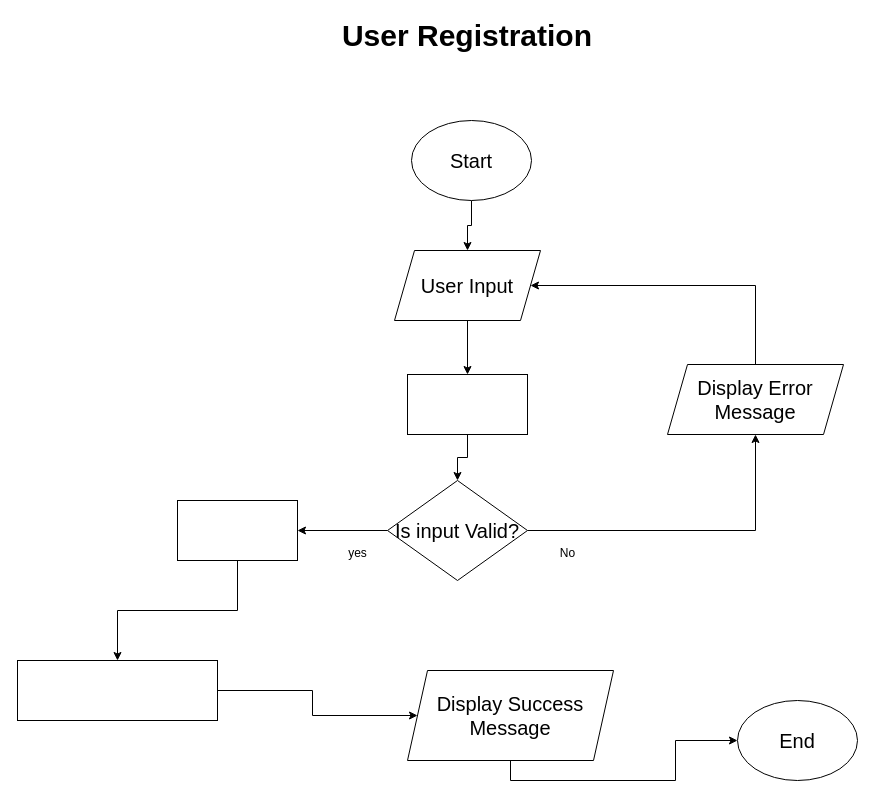
The diagram is 875 pixels wide and 806 high, and some of its shapes have lost their labels. The shapes that lost their labels are listed below. From the top down, each one's box as (x1, y1, x2, y2) in pixels, then its label:
(406, 374, 528, 434): Validate Input
(176, 500, 298, 560): Create User Account
(16, 660, 218, 720): Send Confirmination Email
